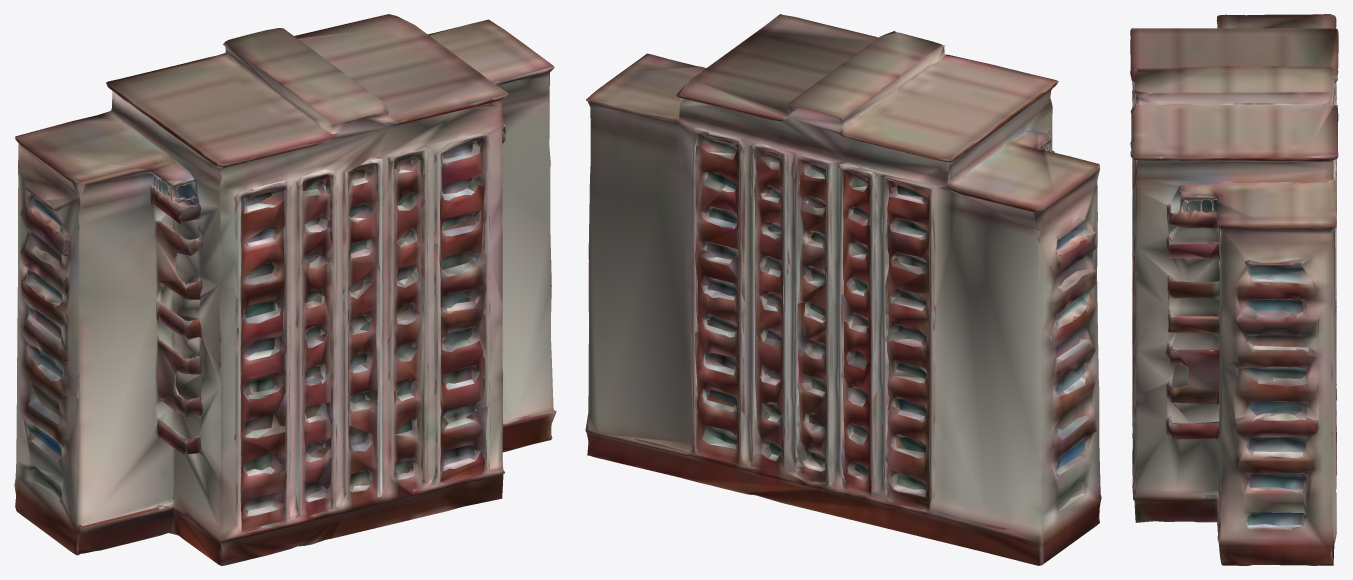
Rendered from apartment-lod.glb.
The picture shows the model from 3 angles, left to right: view 1: azimuth 30°, elevation 25°; view 2: azimuth 150°, elevation 25°; view 3: azimuth 270°, elevation 25°; orthographic projection. The views are drawn at different scales.
Parts seen in each view (by area): view 1: tripo_node_3ddd319e-1ad9-40f4-aaa2-c45a1d75ed49; view 2: tripo_node_3ddd319e-1ad9-40f4-aaa2-c45a1d75ed49; view 3: tripo_node_3ddd319e-1ad9-40f4-aaa2-c45a1d75ed49.
Boxes of the visible parts, <box> form: tripo_node_3ddd319e-1ad9-40f4-aaa2-c45a1d75ed49: <box>14,14,556,565</box>; tripo_node_3ddd319e-1ad9-40f4-aaa2-c45a1d75ed49: <box>585,14,1101,565</box>; tripo_node_3ddd319e-1ad9-40f4-aaa2-c45a1d75ed49: <box>1130,14,1338,565</box>.
Size of the model in its own units: 0.9805 by 0.8084 by 0.3998.
1 material, 1 textured.
